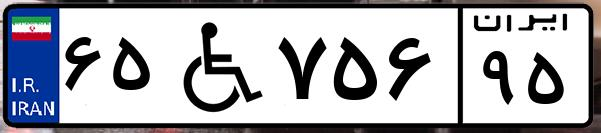5: (330, 28, 385, 110), (525, 38, 570, 115), (110, 28, 158, 98)
6: (385, 28, 445, 110), (57, 26, 110, 100)
7: (270, 28, 330, 110)
9: (475, 38, 525, 113)
ژ (معلولین و جانبازان): (158, 12, 270, 120)
